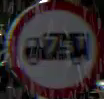Heavy Vehicles: (5, 0, 103, 97)
